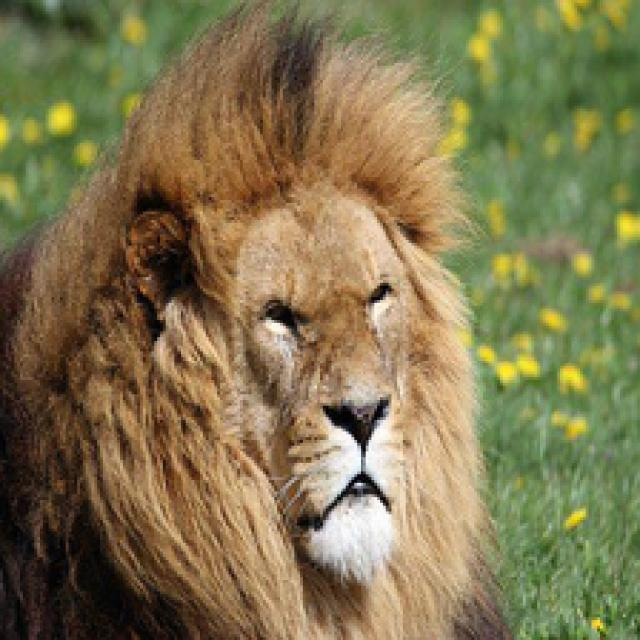lion: (25, 9, 529, 640)
